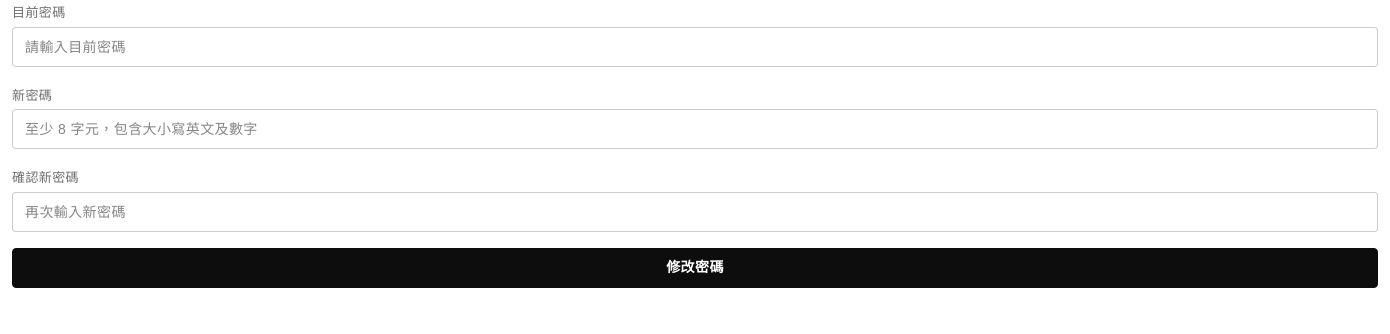
ChangePasswordForm 元件 › 兩次新密碼不一致時顯示錯誤
In the password field labelled "目前密碼": (695, 46) x1=12 y1=26 x2=1378 y2=66, type "oldPass123"
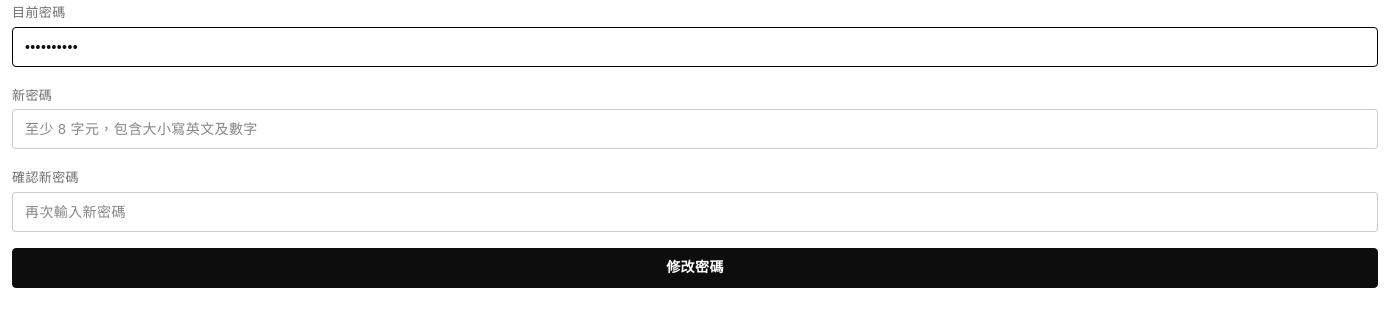
In the password field labelled "新密碼": (695, 129) x1=12 y1=109 x2=1378 y2=149, type "NewPass123"
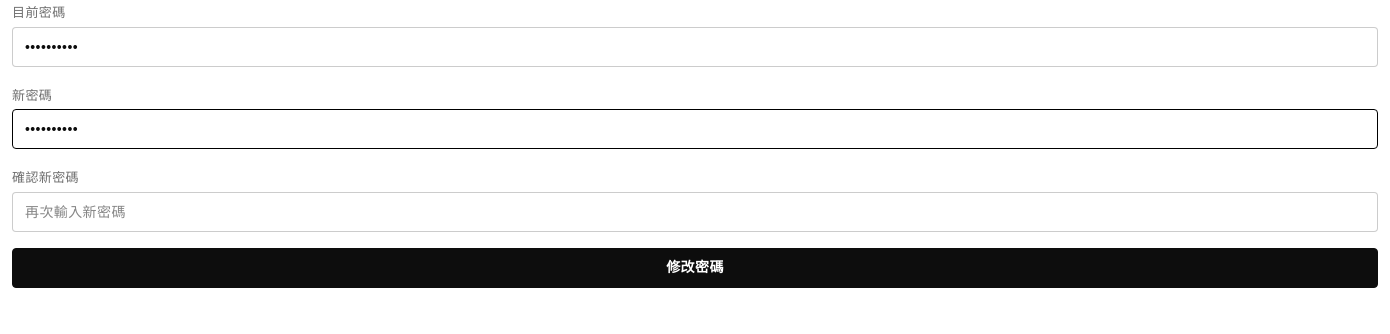
In the password field labelled "確認新密碼": (695, 212) x1=12 y1=192 x2=1378 y2=232, type "NewPass456"
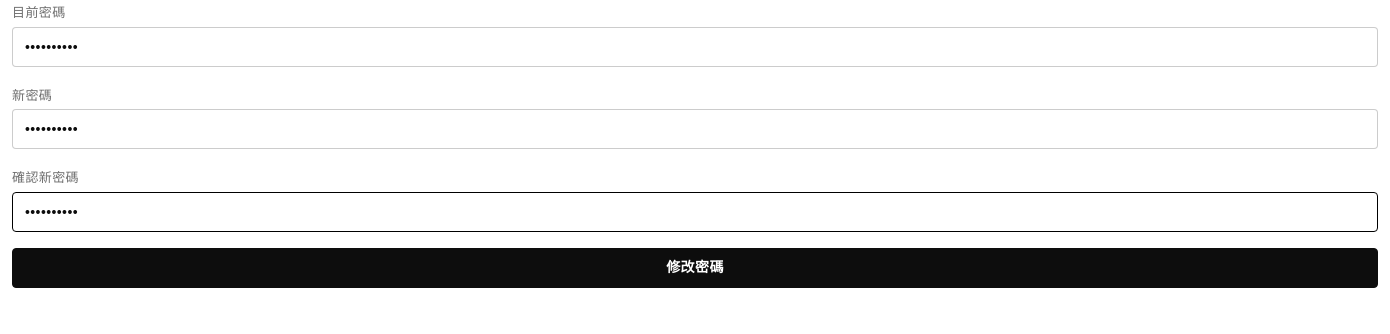
Click the button "修改密碼": (695, 268) x1=12 y1=248 x2=1378 y2=288
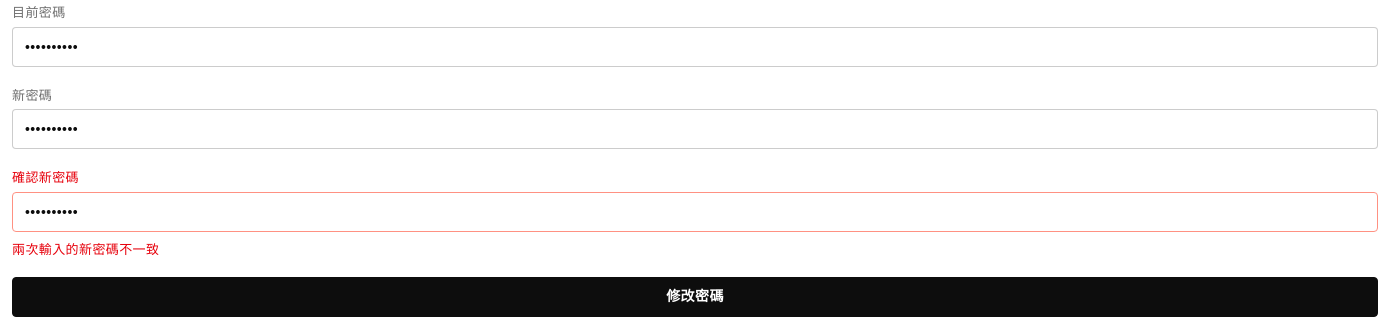
Now the text "兩次輸入的新密碼不一致" is shown, box x1=12 y1=240 x2=159 y2=259
